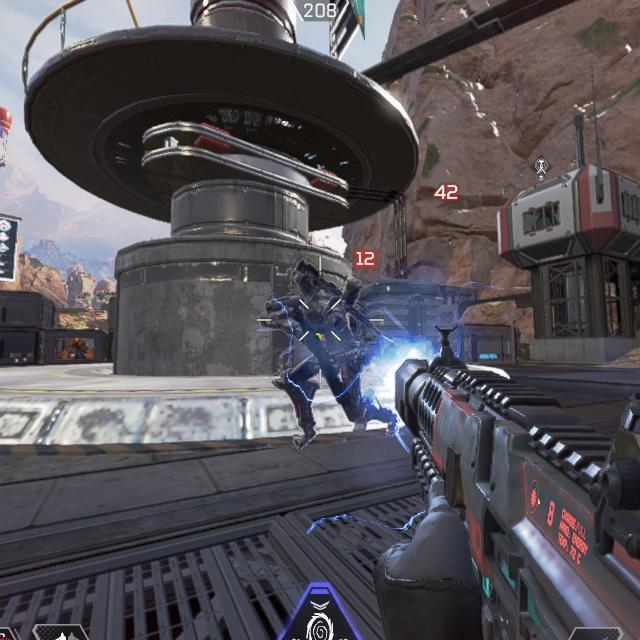avatar: (263, 257, 401, 452)
